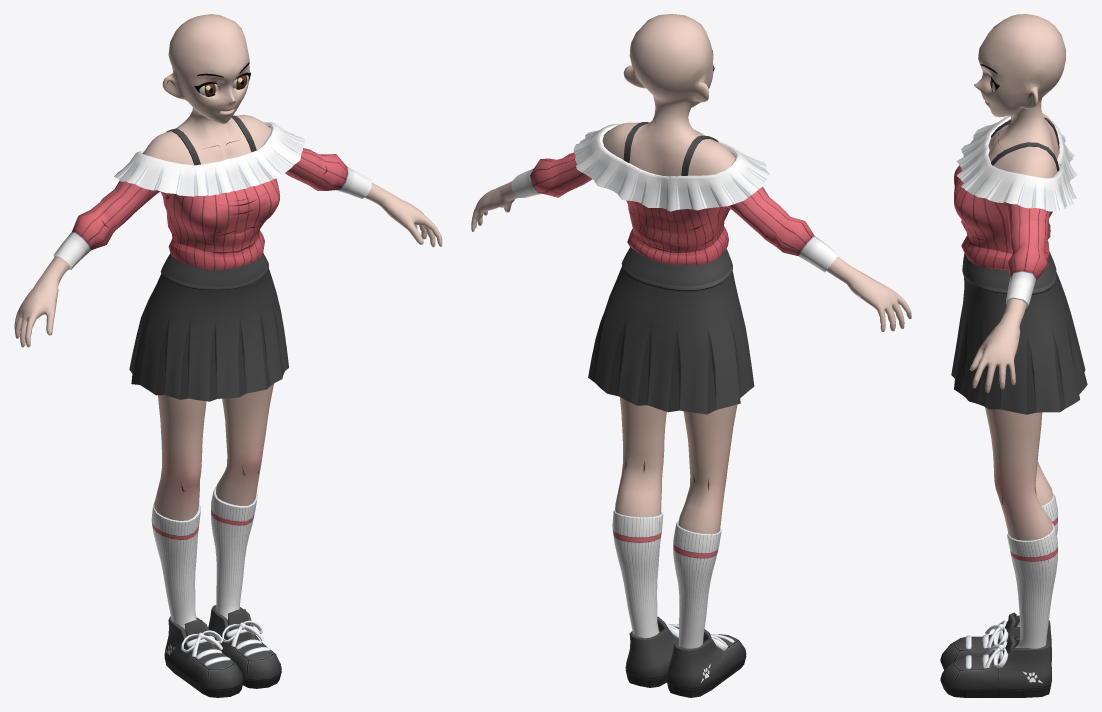
Rendered from Girl.fbx.
The picture shows the model from 3 angles, left to right: view 1: azimuth 30°, elevation 25°; view 2: azimuth 150°, elevation 25°; view 3: azimuth 270°, elevation 25°; orthographic projection. The views are drawn at different scales.
Visible parts, largest first — view 1: female_body, female_skirt, female_Tshirt, female_bib, female_sneakers_R, female_sock_R, female_sock_L, female_sneakers_L; view 2: female_body, female_skirt, female_Tshirt, female_bib, female_sock_L, female_sock_R, female_sneakers_R, female_sneakers_L; view 3: female_body, female_skirt, female_Tshirt, female_sneakers_L, female_bib, female_sock_L, female_sneakers_R, female_sock_R.
Boxes of the visible parts, x1,y1,x2,y2 form: female_body: (14,14,442,520); female_skirt: (129,252,288,401); female_Tshirt: (53,115,371,270); female_bib: (114,122,304,196); female_sneakers_R: (164,616,243,697); female_sock_R: (151,502,200,629); female_sock_L: (211,486,257,619); female_sneakers_L: (208,605,281,688); female_body: (471,14,911,534); female_skirt: (588,247,754,414); female_Tshirt: (511,122,838,272); female_bib: (573,124,770,211); female_sock_L: (612,510,663,638); female_sock_R: (673,521,721,648); female_sneakers_R: (666,629,746,697); female_sneakers_L: (625,616,678,687); female_body: (969,14,1065,540); female_skirt: (951,251,1087,414); female_Tshirt: (954,117,1062,308); female_sneakers_L: (940,634,1051,697); female_bib: (956,116,1076,211); female_sock_L: (1007,523,1057,648); female_sneakers_R: (940,612,1051,669); female_sock_R: (1016,493,1057,626).
Bounding box in the file's own units: 4.01 × 5.94 × 1.2.
